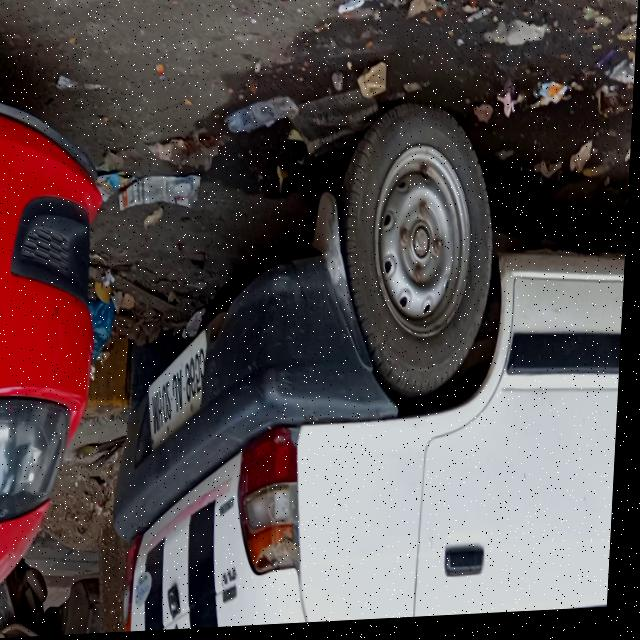plate: (149, 330, 213, 455)
